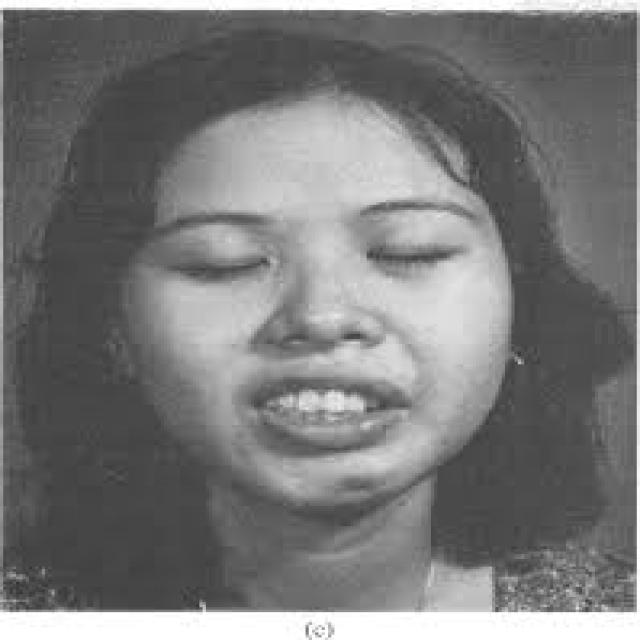normal_face: (57, 90, 595, 542)
